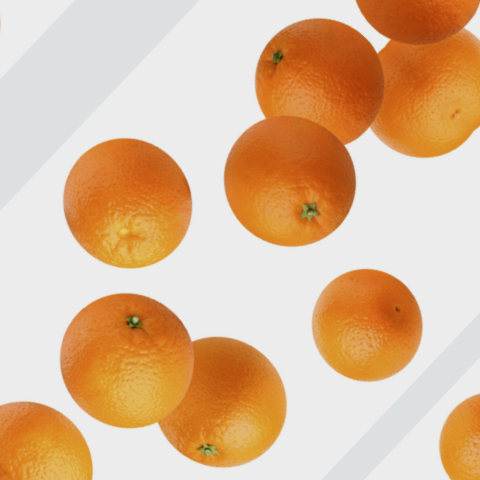orange: (27, 91, 238, 301), (21, 256, 231, 467), (193, 82, 393, 282), (210, 0, 421, 188), (119, 304, 321, 480), (282, 242, 452, 413), (325, 45, 480, 199)
